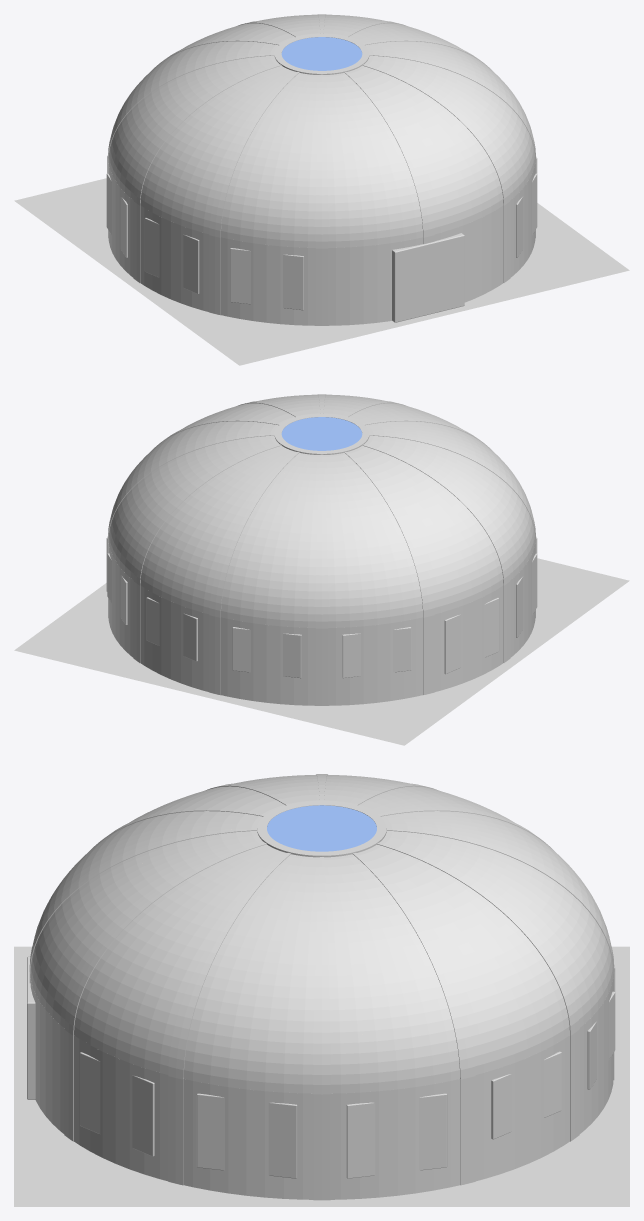
The model's file is lobby.glb.
3 views of the same model, one above another, from view 1: azimuth 30°, elevation 25°; view 2: azimuth 150°, elevation 25°; view 3: azimuth 270°, elevation 25° (orthographic). The views are drawn at different scales.
Parts seen in each view (by area): view 1: archC, archL, floorN, archR, EM_static; view 2: archC, archL, floorN, archR, EM_static; view 3: archC, archL, archR, floorN, EM_static.
Part boxes in pixels (<box>): archC: <box>108,14,535,247</box>; archL: <box>106,155,537,325</box>; floorN: <box>14,178,629,365</box>; archR: <box>108,14,535,325</box>; EM_static: <box>281,37,362,70</box>; archC: <box>108,394,535,627</box>; archL: <box>106,536,537,705</box>; floorN: <box>14,558,629,745</box>; archR: <box>108,394,535,705</box>; EM_static: <box>281,417,362,450</box>; archC: <box>30,775,613,1093</box>; archL: <box>27,956,615,1199</box>; archR: <box>29,774,614,1200</box>; floorN: <box>14,946,629,1206</box>; EM_static: <box>267,805,376,851</box>.
Bounding box in the file's own units: 19 × 8.45 × 19.
